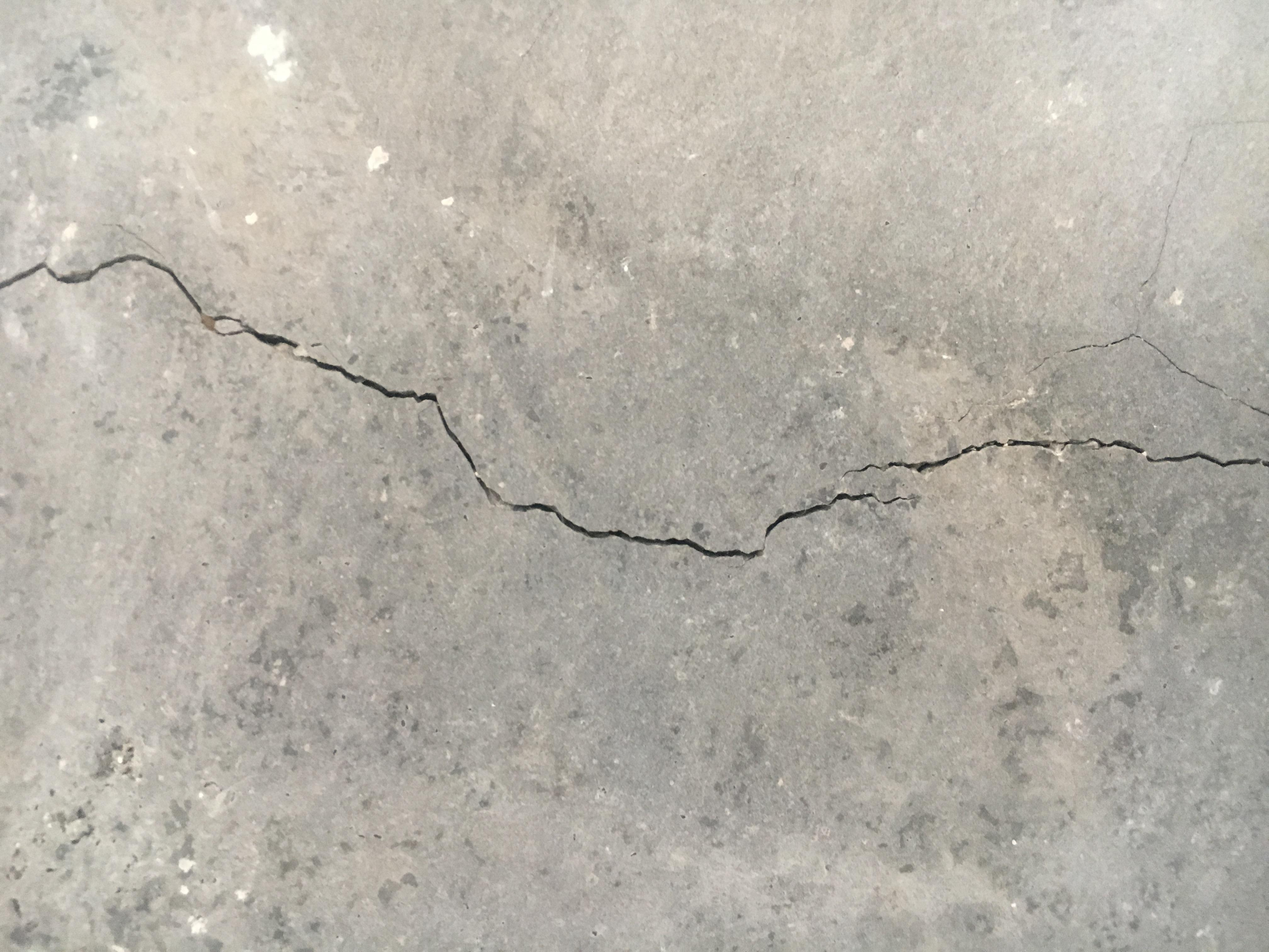Horizontal Settlement Crack: (6, 243, 1265, 566)
